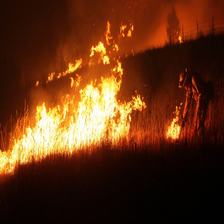fire: (4, 37, 197, 177)
